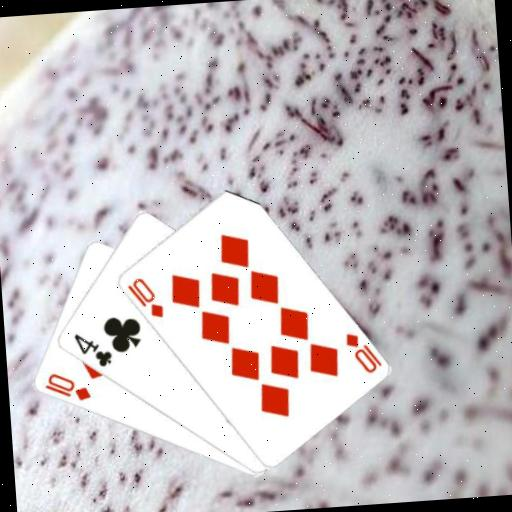10D: (341, 328, 384, 377), (124, 274, 166, 322), (40, 368, 92, 405)
4C: (70, 328, 114, 371)
